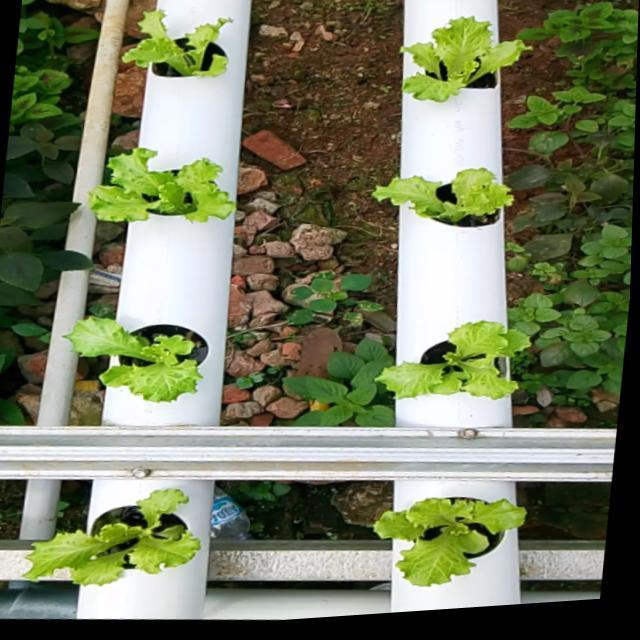Baby: (16, 483, 195, 580), (369, 481, 522, 586), (63, 317, 209, 404), (369, 318, 527, 398), (402, 16, 533, 102), (86, 148, 236, 223), (373, 168, 516, 228), (122, 10, 232, 77)
